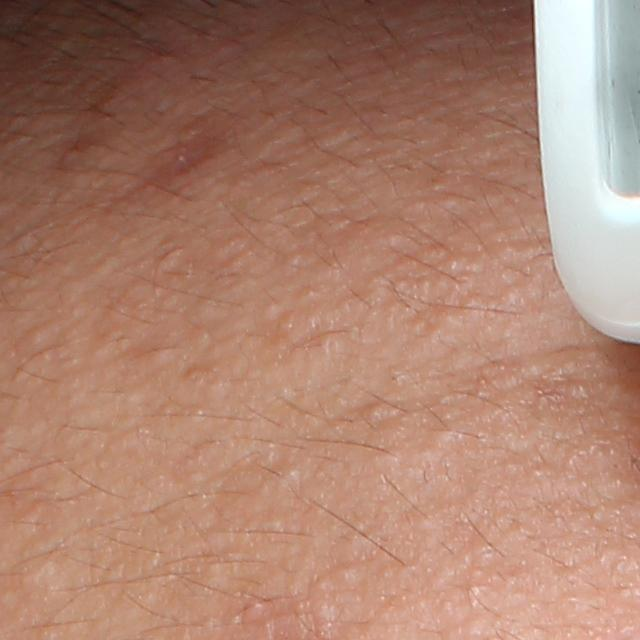comedo: (300, 326, 356, 365), (352, 399, 402, 423), (329, 560, 365, 590), (21, 322, 49, 349)
